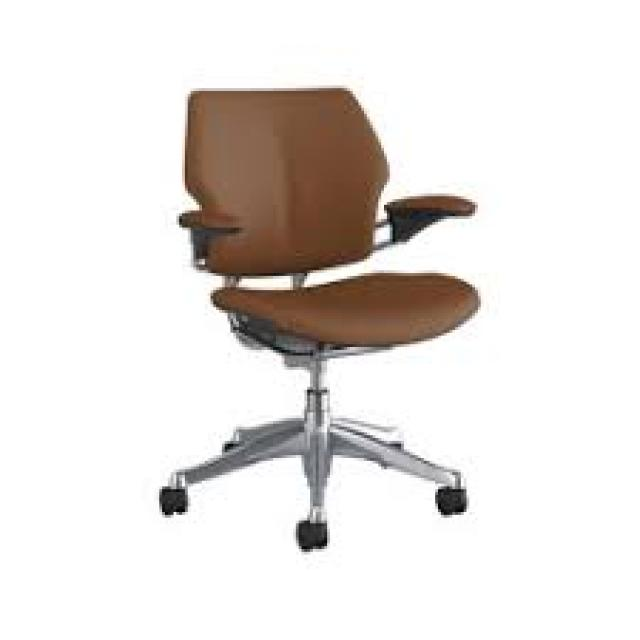chair: (74, 65, 629, 640)
